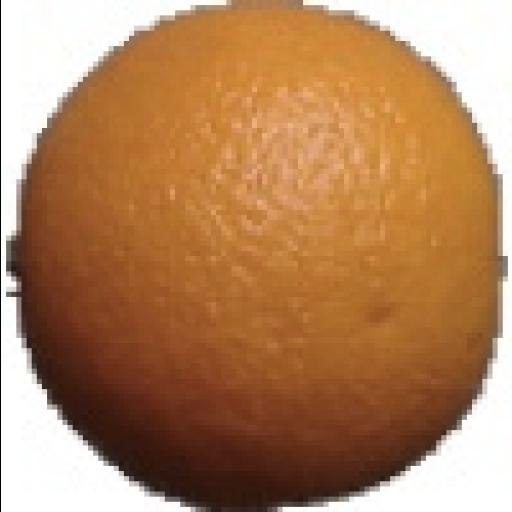orange: (16, 6, 496, 506)
